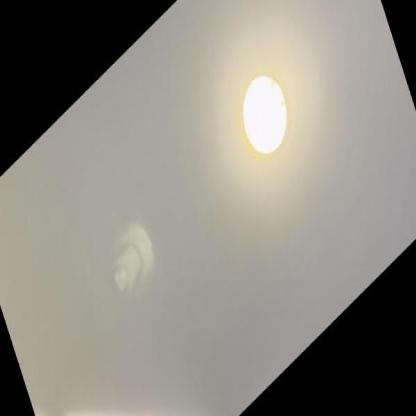light_on: (55, 293, 229, 415), (220, 40, 300, 187), (35, 405, 52, 415)
